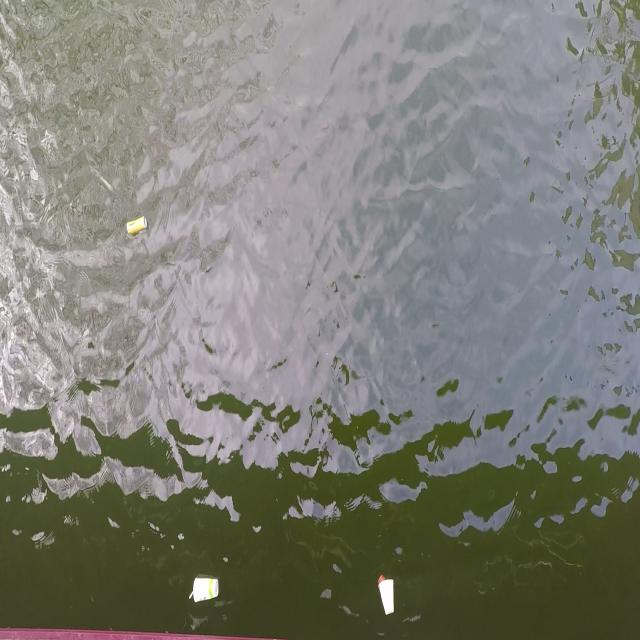Non plastique: (186, 571, 224, 609), (378, 574, 398, 622), (125, 211, 149, 240)
